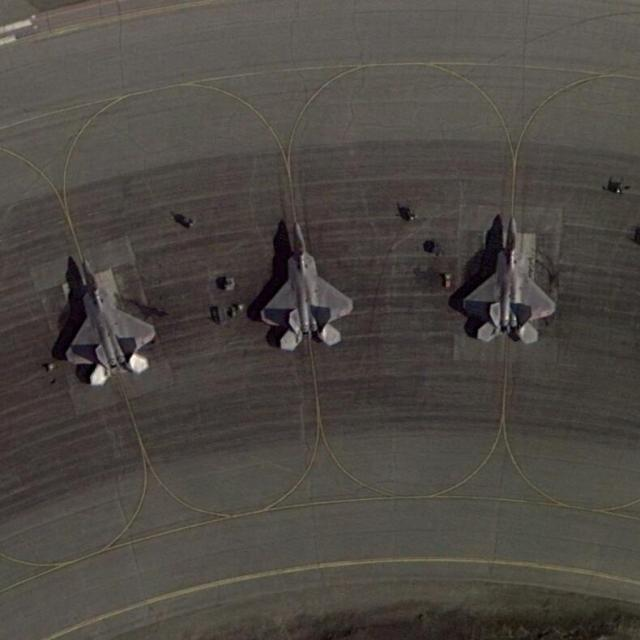fighter jet: (447, 208, 562, 356), (47, 257, 156, 383), (268, 223, 356, 356)
